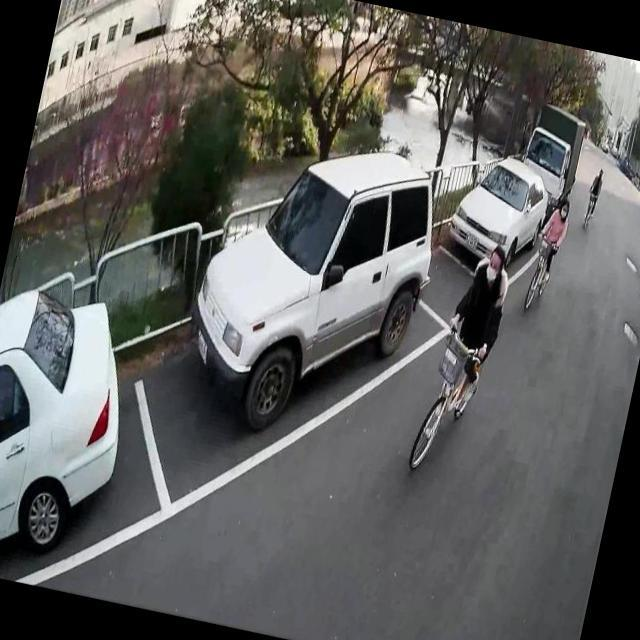person: (427, 234, 519, 423), (527, 191, 573, 295), (582, 164, 606, 226)
